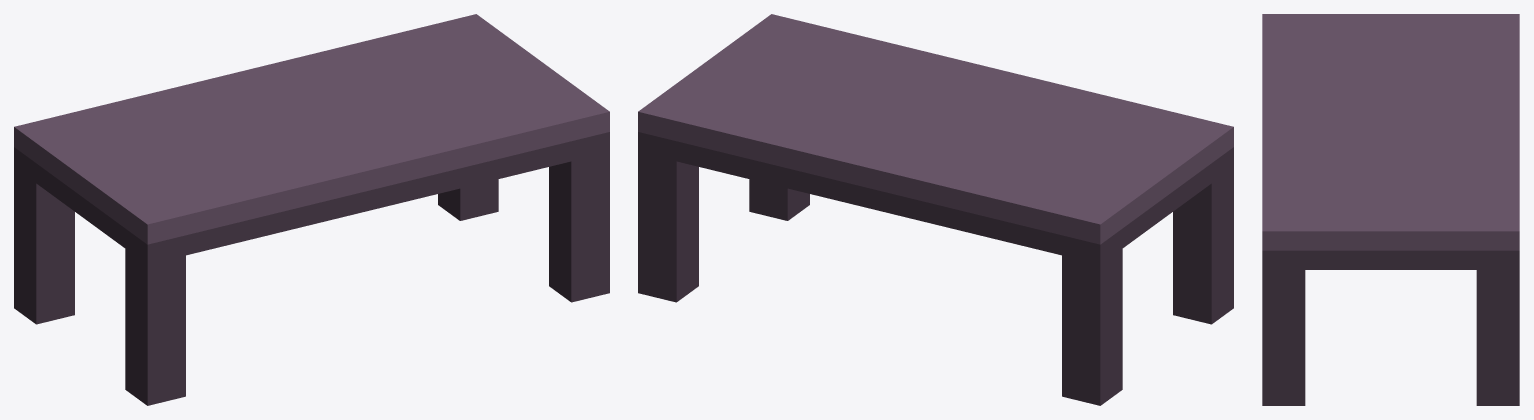
File: altar_oscuro_01.glb
3 views of the same model, side by side, from view 1: azimuth 30°, elevation 25°; view 2: azimuth 150°, elevation 25°; view 3: azimuth 270°, elevation 25° (orthographic). The views are drawn at different scales.
Visible parts, largest first — view 1: altar_oscuro; view 2: altar_oscuro; view 3: altar_oscuro.
Boxes of the visible parts, left/top/right/bottom form: altar_oscuro: left=14, top=14, right=609, bottom=405; altar_oscuro: left=638, top=14, right=1233, bottom=405; altar_oscuro: left=1262, top=14, right=1519, bottom=405.
Bounding box in the file's own units: 2 × 0.75 × 1.
